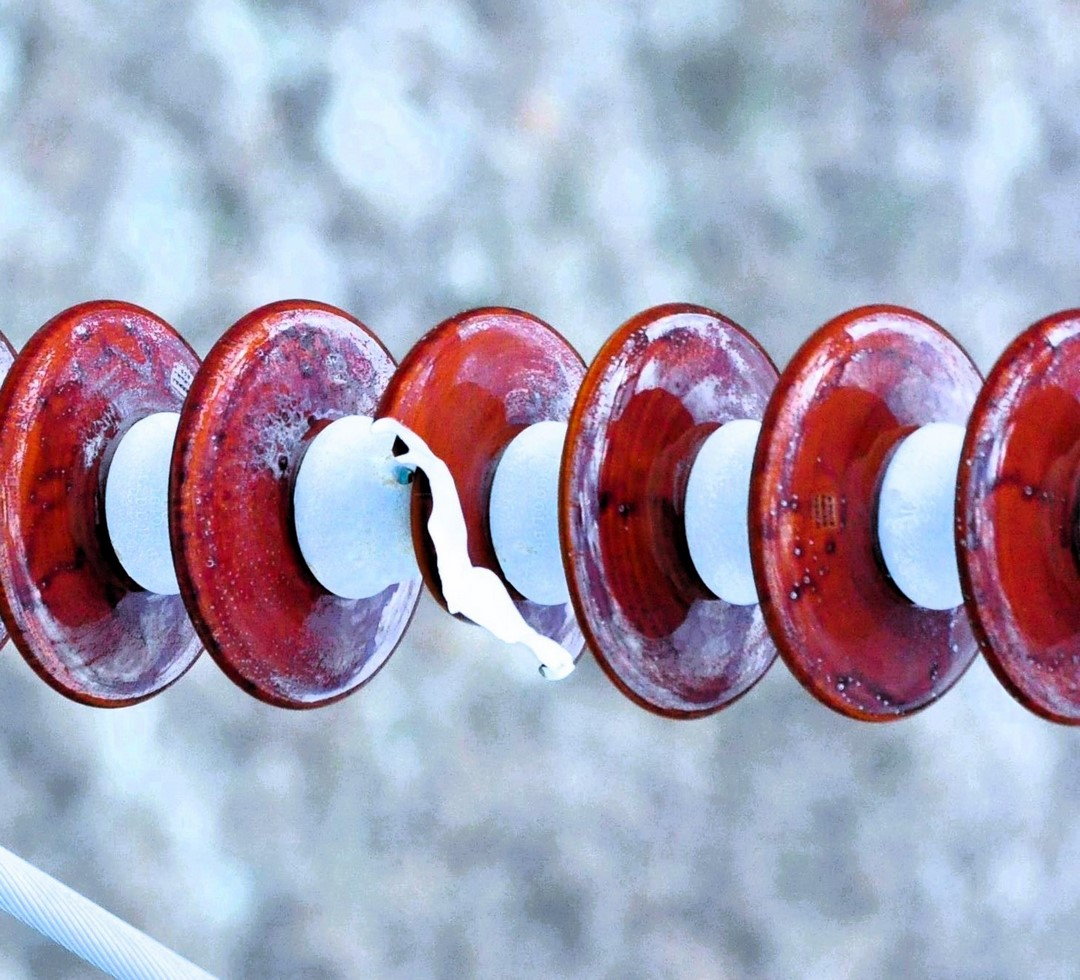insulator breakage: (369, 297, 607, 700)
